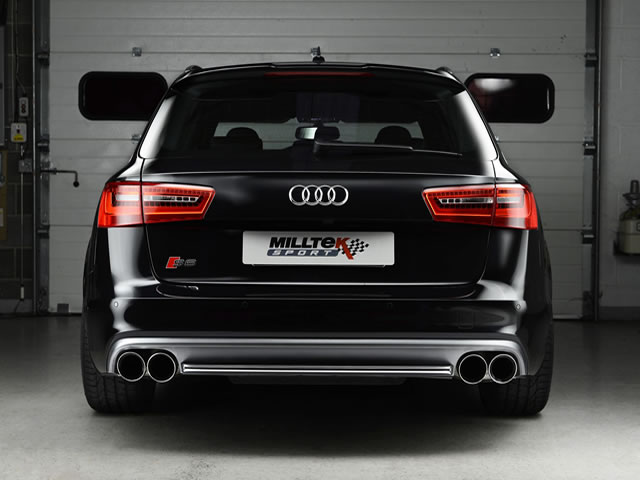audi: (276, 181, 359, 211)
